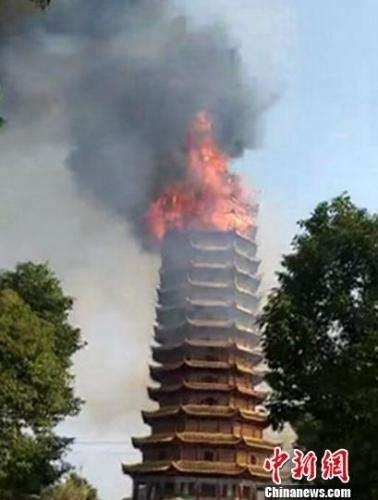fire: (146, 114, 262, 241)
